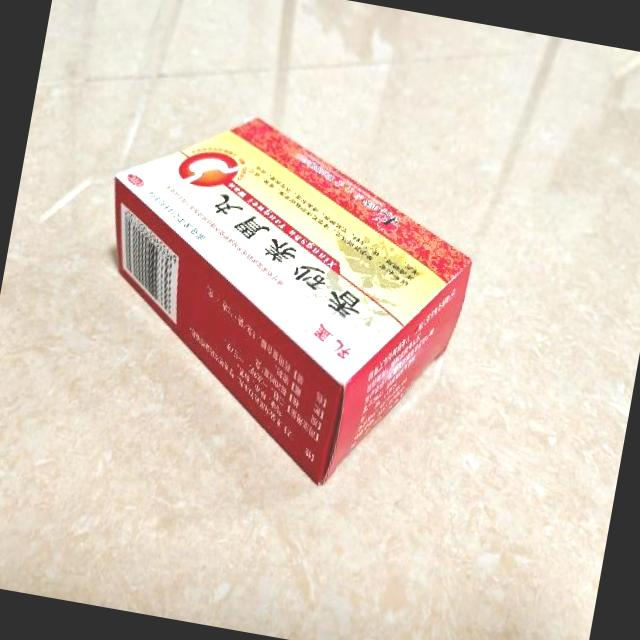box: (68, 94, 490, 507)
